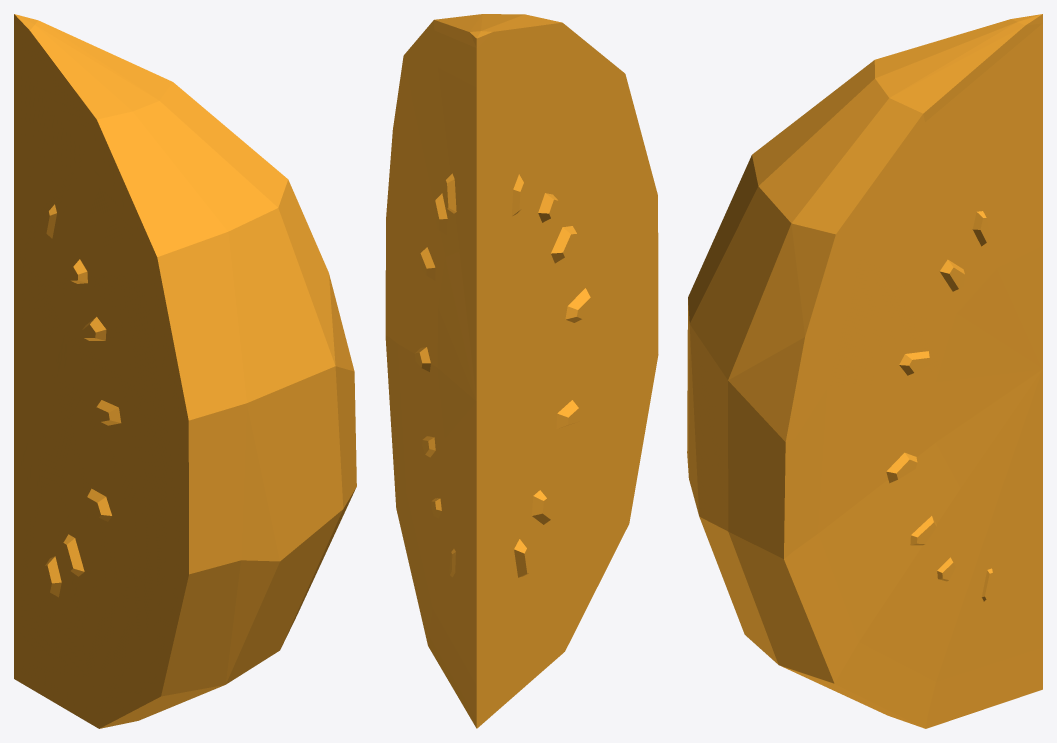
The model's file is SM_Watermelon_Piece_B.fbx.
The picture shows the model from 3 angles, left to right: view 1: azimuth 30°, elevation 25°; view 2: azimuth 150°, elevation 25°; view 3: azimuth 270°, elevation 25°; orthographic projection. The views are drawn at different scales.
Visible parts, largest first — view 1: watermelon-piece-b; view 2: watermelon-piece-b; view 3: watermelon-piece-b.
Part boxes in pixels (x1=…): watermelon-piece-b: x1=14, y1=14, x2=356, y2=728; watermelon-piece-b: x1=385, y1=14, x2=658, y2=728; watermelon-piece-b: x1=687, y1=14, x2=1042, y2=728.
Bounding box in the file's own units: 0.1449 × 0.413 × 0.197.
